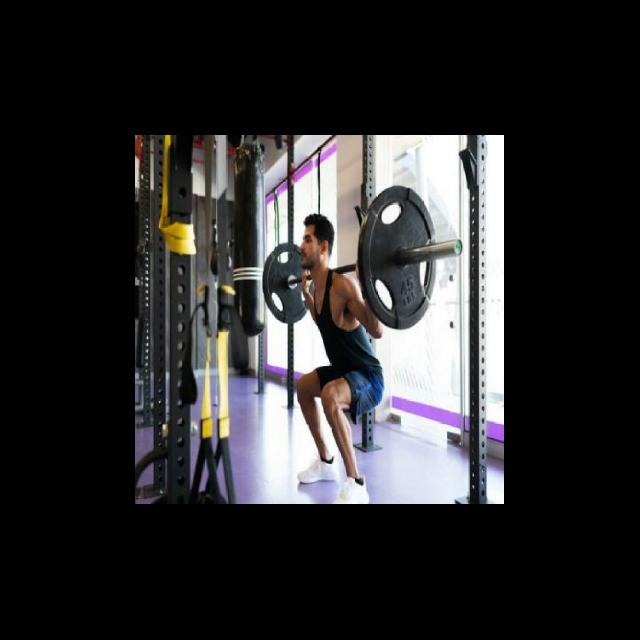barbell: (355, 179, 446, 335)
